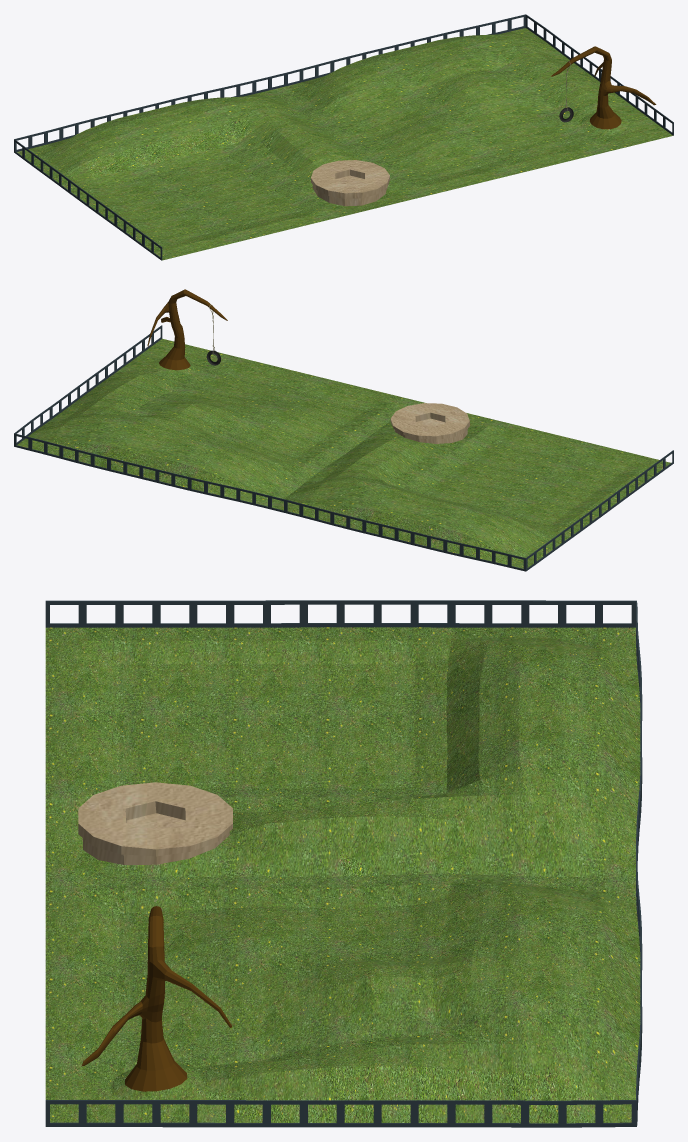
The model's file is judeland1.fbx.
3 renders of one model, top to bottom at view 1: azimuth 30°, elevation 25°; view 2: azimuth 150°, elevation 25°; view 3: azimuth 270°, elevation 25°, orthographic. The views are drawn at different scales.
Visible parts, largest first — view 1: Plane.001, Plane.002, Plane.000; view 2: Plane.001, Plane.002, Plane.000; view 3: Plane.001, Plane.002, Plane.000.
Boxes of the visible parts, x1=… form: Plane.001: x1=17, y1=28, x2=672, y2=260; Plane.002: x1=14, y1=14, x2=673, y2=260; Plane.000: x1=551, y1=46, x2=654, y2=129; Plane.001: x1=17, y1=338, x2=670, y2=568; Plane.002: x1=14, y1=325, x2=673, y2=571; Plane.000: x1=147, y1=289, x2=227, y2=370; Plane.001: x1=45, y1=627, x2=640, y2=1123; Plane.002: x1=45, y1=600, x2=642, y2=1127; Plane.000: x1=83, y1=906, x2=232, y2=1091.
Bounding box in the file's own units: 44.2 × 6.91 × 22.23.
7 materials, 3 textured.
